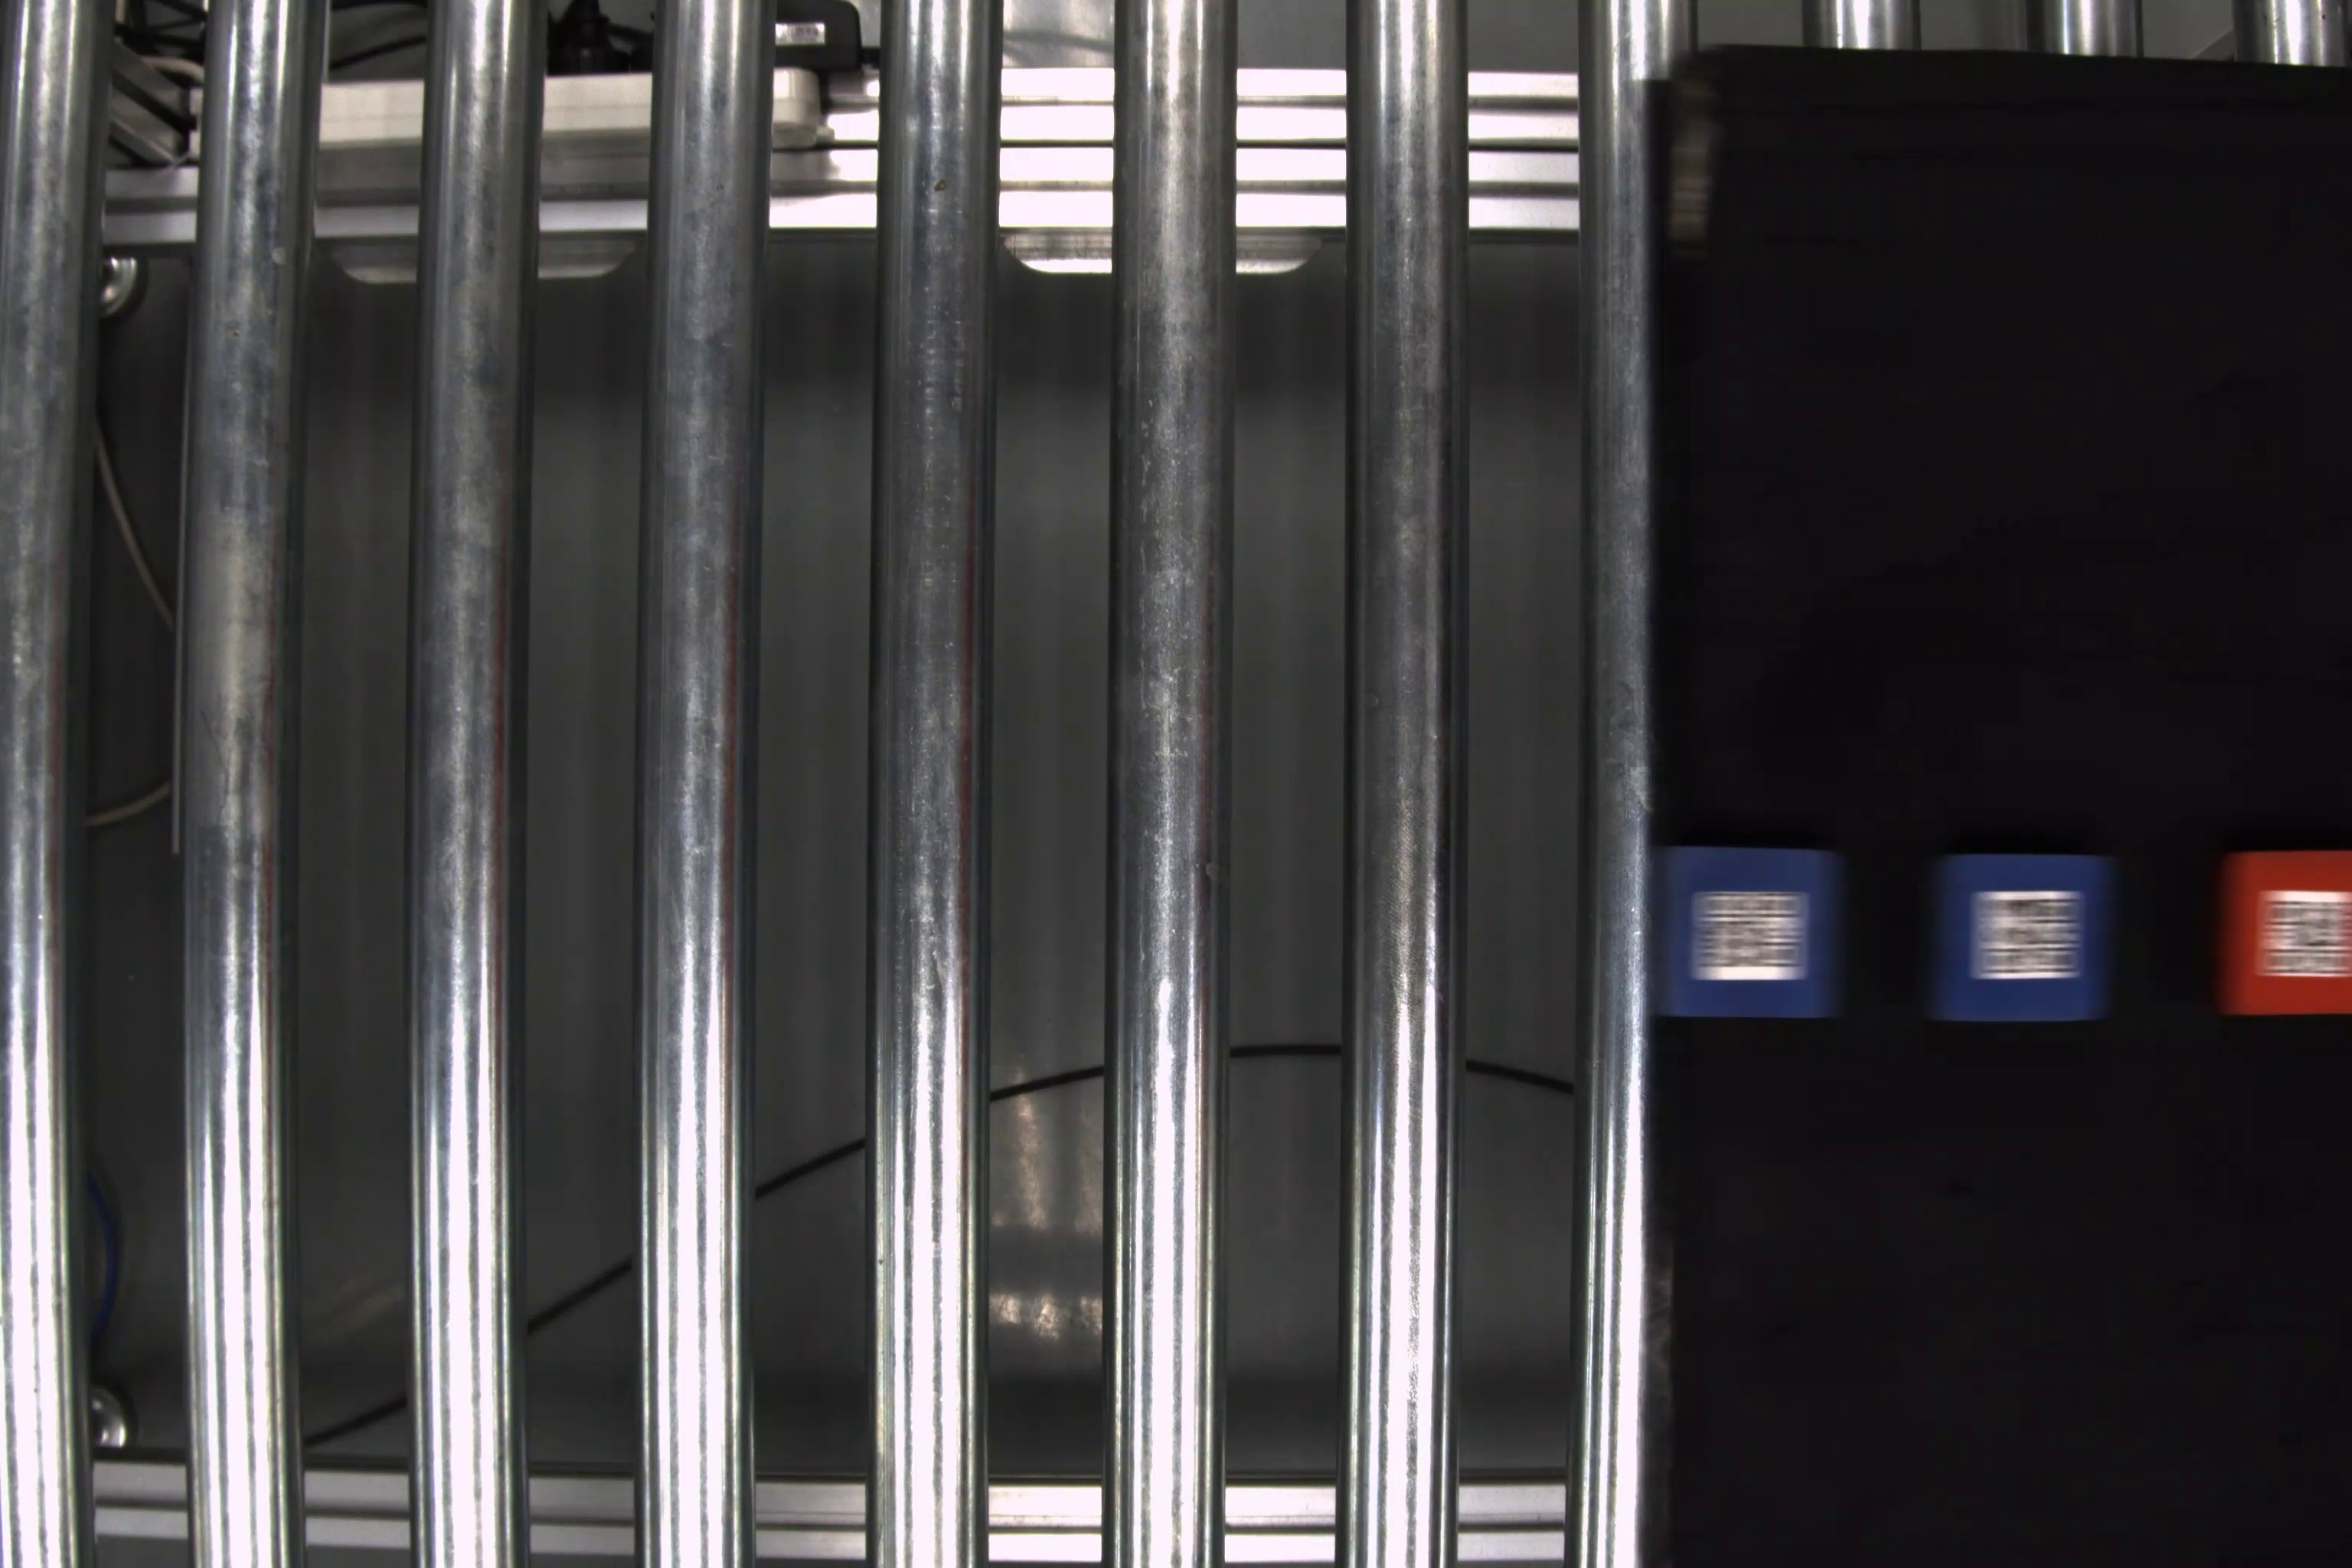wood: (1650, 847, 1850, 1022), (1925, 850, 2116, 1027), (2217, 850, 2350, 1022)
